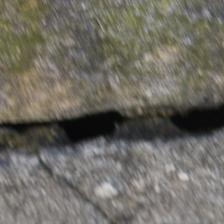Crack: (70, 0, 150, 112), (179, 39, 224, 111)
